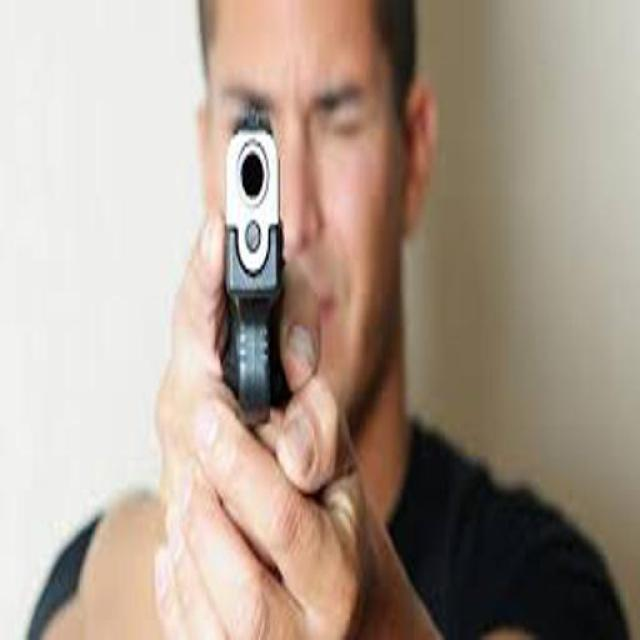pistol: (224, 101, 290, 463)
